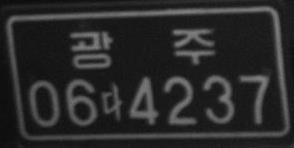0: (27, 78, 61, 129)
2: (162, 74, 198, 126)
3: (202, 73, 237, 125)
4: (127, 75, 159, 126)
6: (64, 77, 99, 128)
7: (238, 73, 271, 126)
광주_D: (68, 24, 217, 71)
다: (99, 80, 124, 123)
